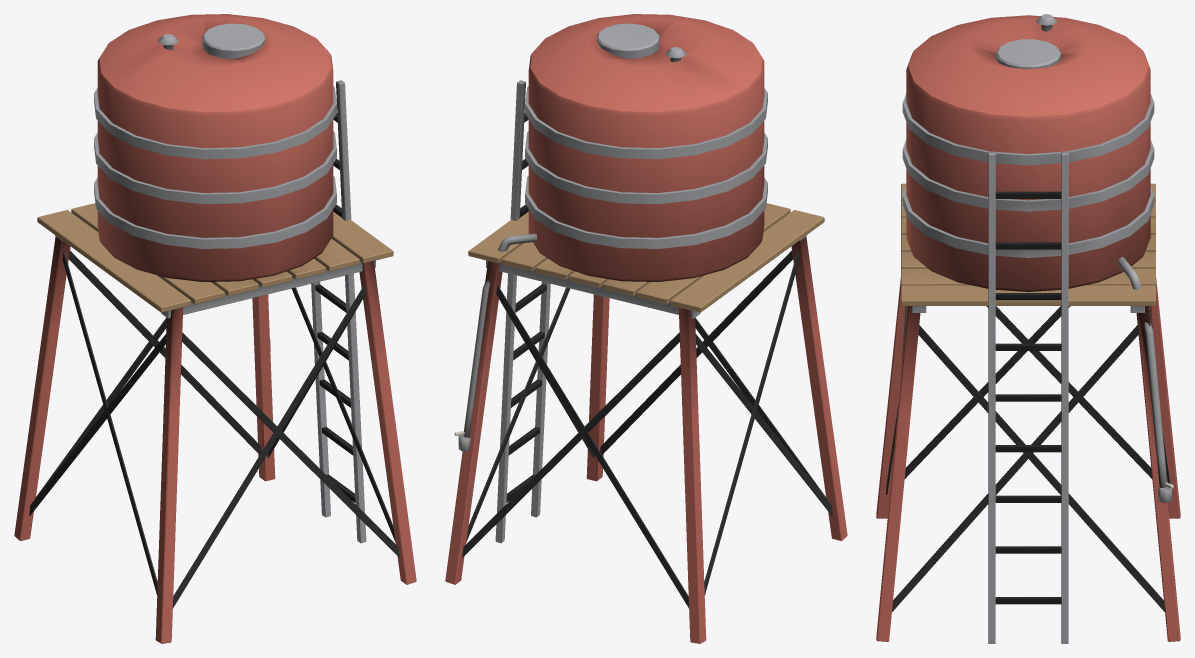
File: tank.glb
3 views of the same model, side by side, from view 1: azimuth 30°, elevation 25°; view 2: azimuth 150°, elevation 25°; view 3: azimuth 270°, elevation 25° (orthographic). The views are drawn at different scales.
Visible parts, largest first — view 1: PART; view 2: PART; view 3: PART.
Part boxes in pixels (x1,y1,x2,y2): PART: (14,14,416,643); PART: (445,14,847,643); PART: (876,14,1180,643).
Size of the model in its own units: 1.69 by 3.28 by 1.67.
